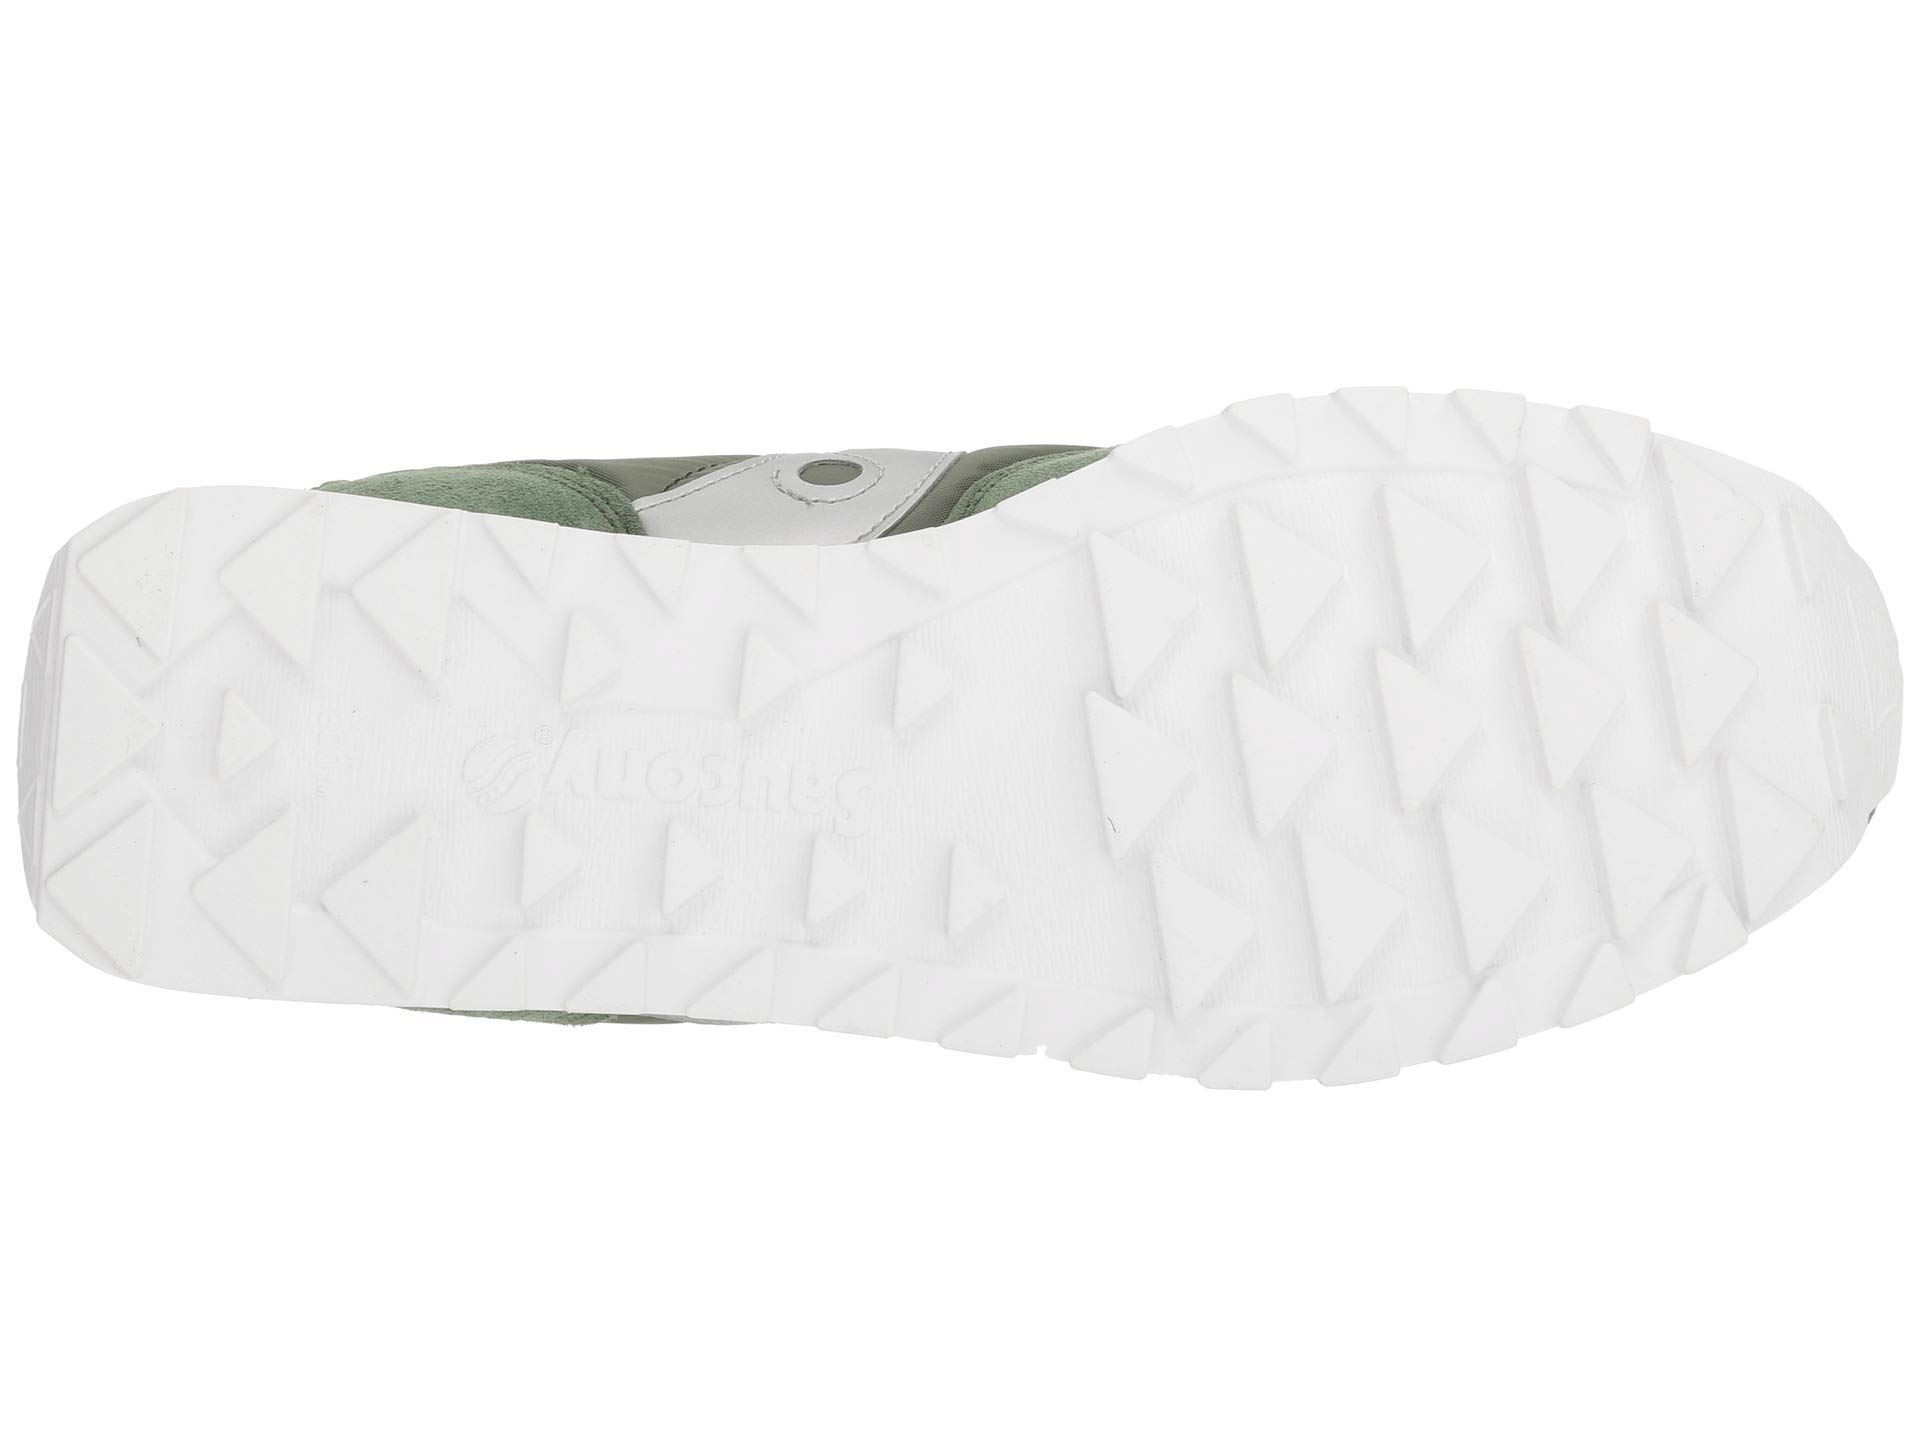triangle: (1025, 498, 1609, 1041), (163, 549, 488, 927), (1628, 554, 1819, 796)
